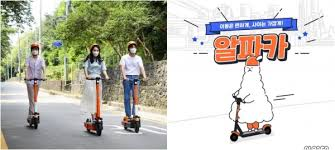kick_wheel: (96, 123, 102, 136), (33, 116, 39, 129), (134, 118, 139, 132)
